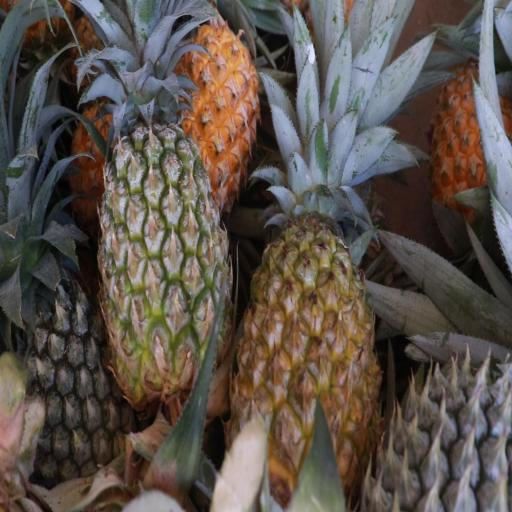------------------------------: (98, 112, 228, 382)
Pineapple - v8 v1: (234, 168, 376, 494), (114, 6, 258, 162), (427, 69, 504, 210)
